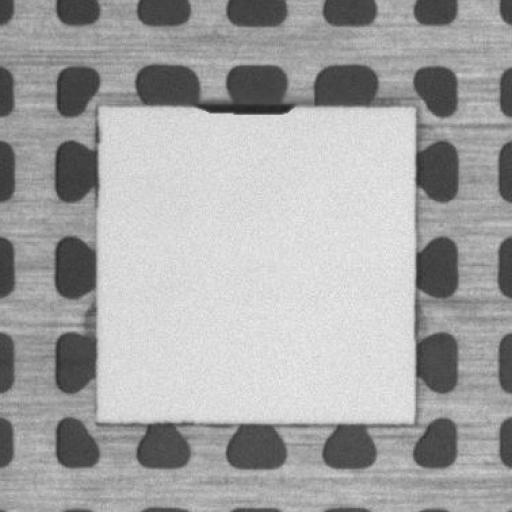DIE_BROKEN: (190, 97, 294, 119)
